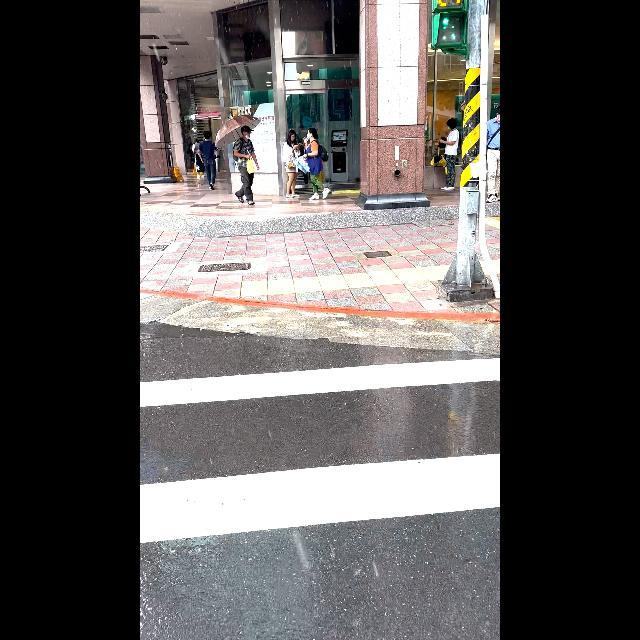sidewalk: (140, 357, 499, 545)
